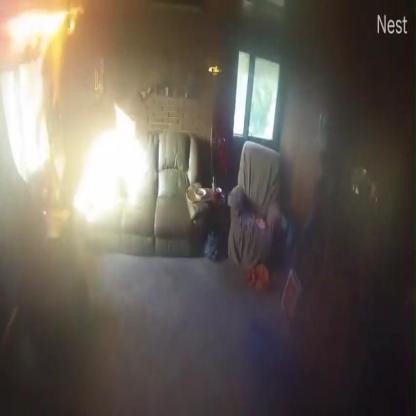fire: (5, 6, 89, 62)
